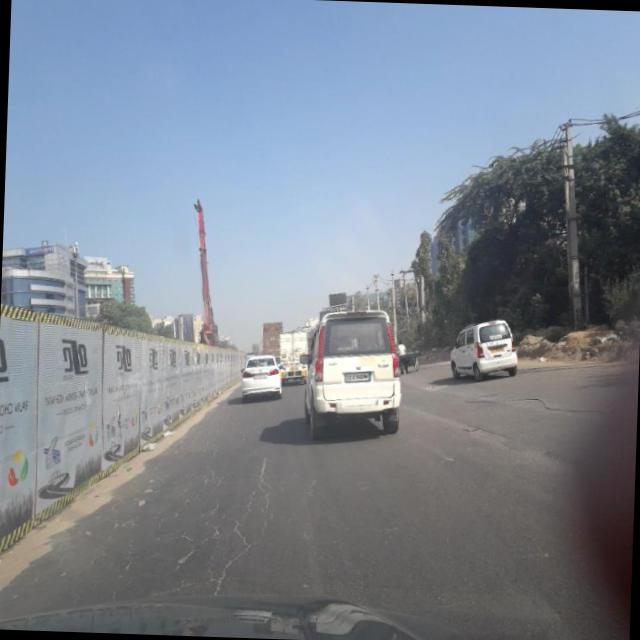crack: (75, 422, 288, 604)
